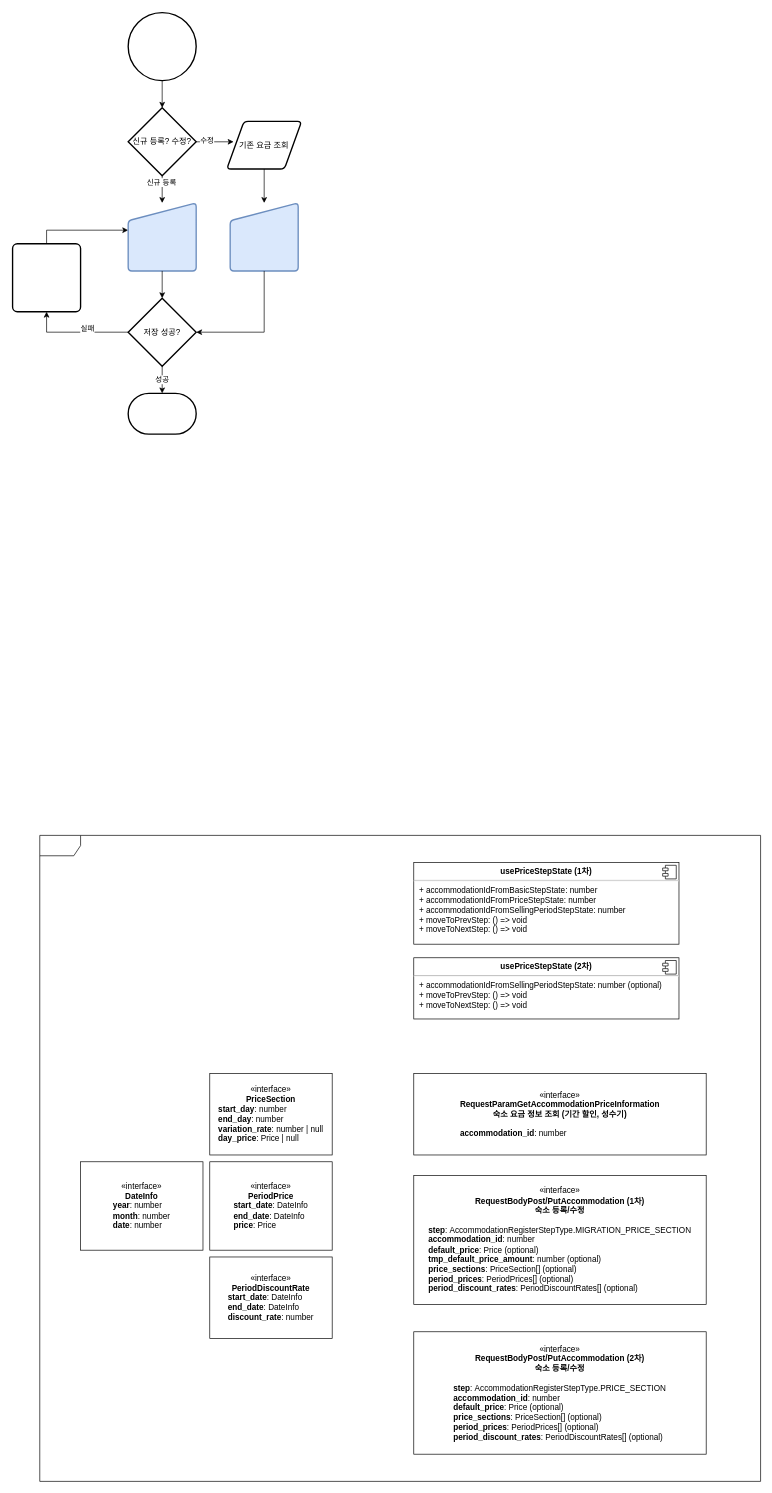
The diagram is 772 pixels wide and 1493 high, and some of its shapes have lost their labels. The box of each missing label's shape, as (x1, y1, x2, y2) in pixels:
archieve: (39, 835, 761, 1481)
숙소 요금 설정: (127, 12, 197, 81)
요금 수정: (229, 202, 299, 271)
요금 입력: (127, 202, 197, 271)
저장: (127, 392, 197, 435)
피드백 UI 노출 (alert, error highlighting): (12, 243, 81, 312)
